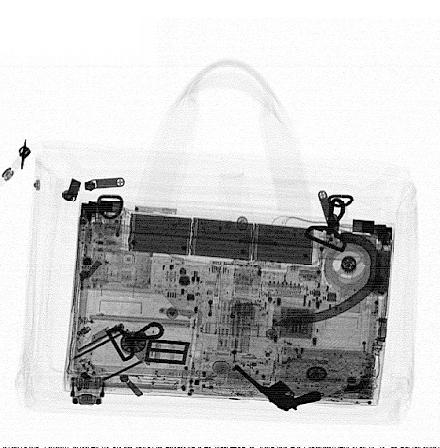Gun: (232, 364, 322, 413)
